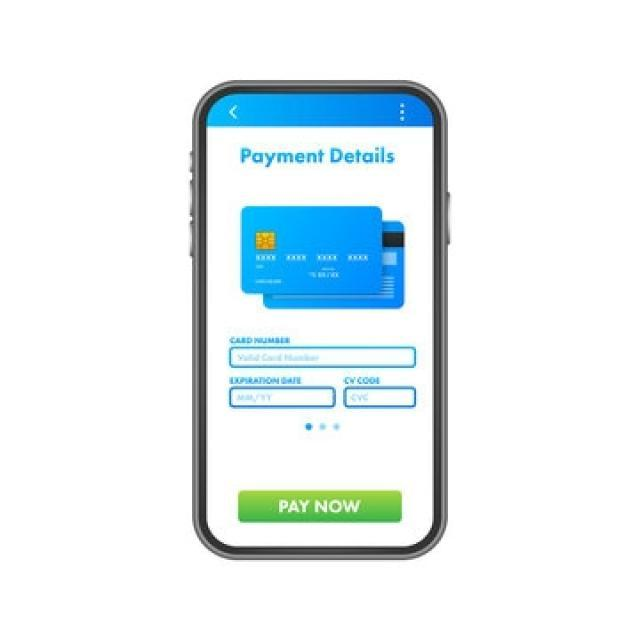payment_card: (241, 207, 382, 295)
